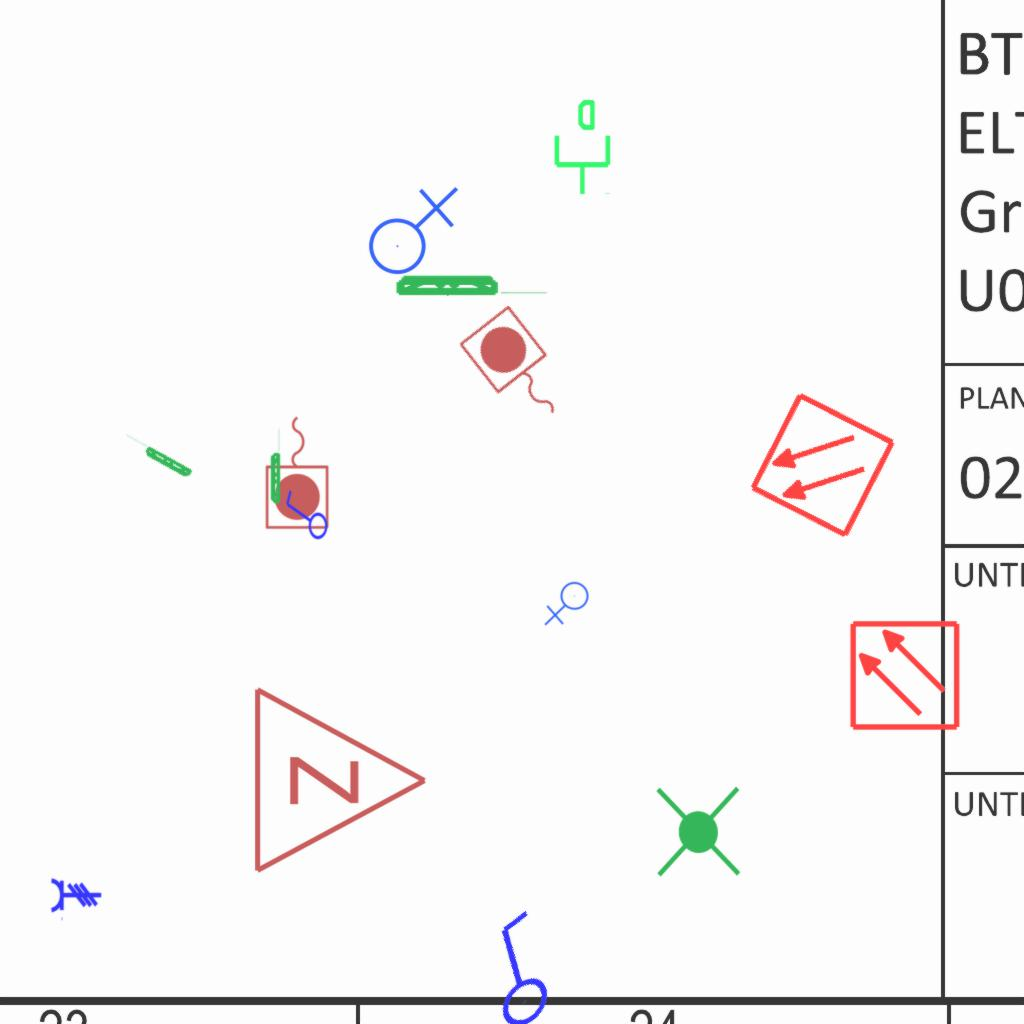Ausschalter: (443, 898, 589, 1024), (281, 489, 329, 545)
CEE_Drehstrom_Steckdose_16_32_A: (50, 877, 102, 922)
Datenanschluss_einfach: (546, 97, 615, 197)
Elektroanschluss_allgemein_230V_Geraeteanschlussdose_230V: (360, 182, 459, 276), (544, 581, 593, 628)
Notlichtbaustein_in_Allgemeinbeleuchtug_engebaut_Einbau_(1UG_und_2UG_Aufbauvaria: (648, 782, 751, 882)
RMO_Rauchmelder_optischer: (746, 389, 899, 542), (848, 619, 961, 732)
Sicherheitsleuchte_Wandeinbau: (393, 272, 552, 297), (119, 432, 195, 481), (269, 426, 281, 505)
Zimmersignalleuchte: (240, 680, 440, 876)
Zugtaster: (452, 299, 584, 441), (262, 411, 334, 533)
